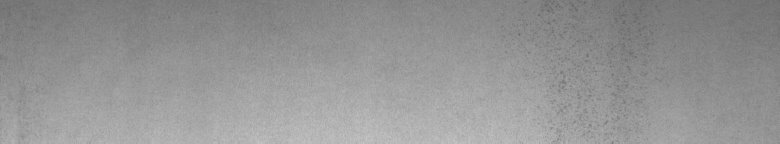ib: (547, 52, 637, 124)
